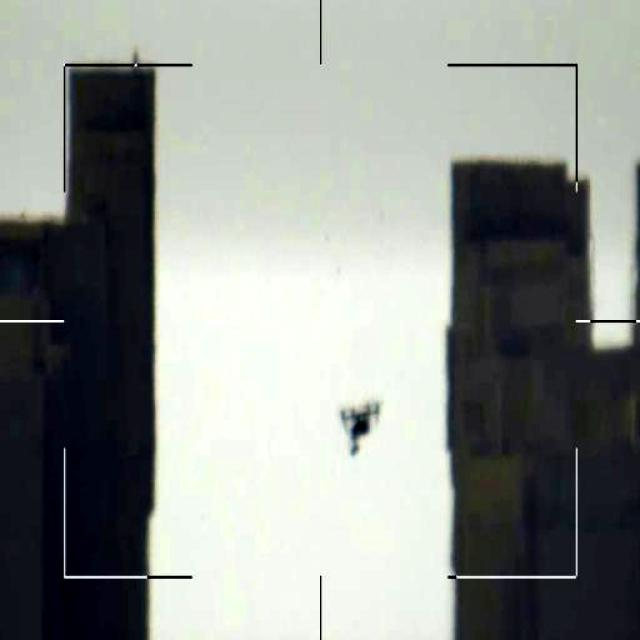bird: (332, 394, 386, 470)
